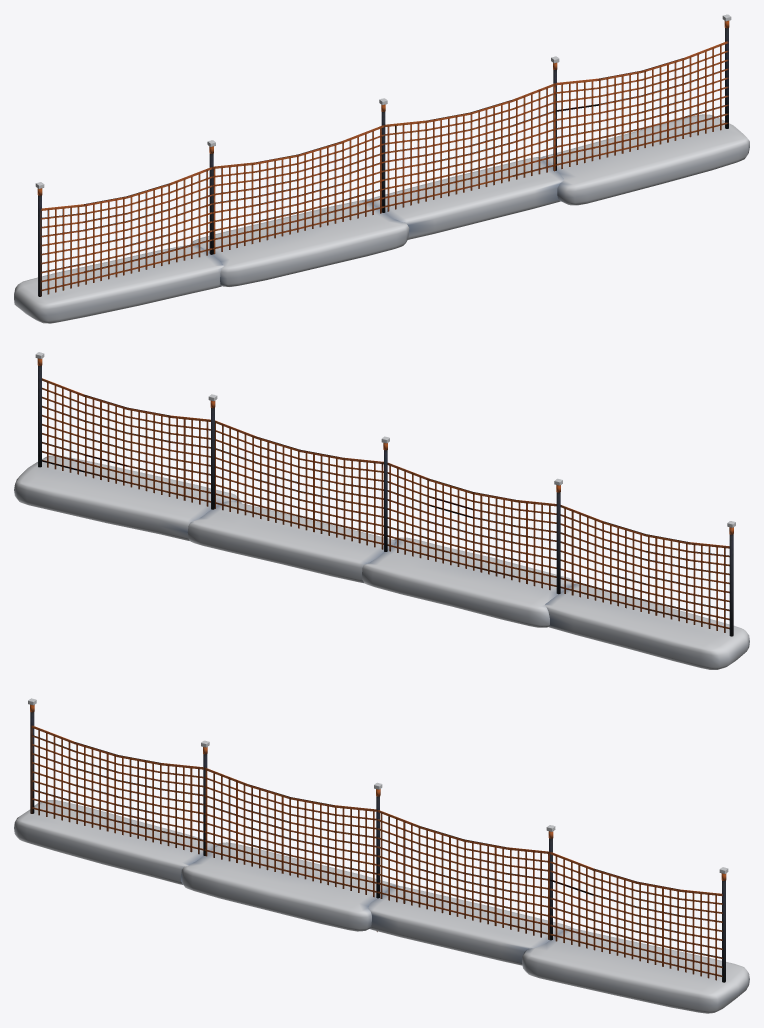
The model's file is safety_fence.glb.
3 renders of one model, top to bottom at view 1: azimuth 30°, elevation 25°; view 2: azimuth 150°, elevation 25°; view 3: azimuth 330°, elevation 25°, orthographic.
Visible parts, largest first — view 1: safety_fence_snow, safety_fence; view 2: safety_fence_snow, safety_fence; view 3: safety_fence_snow, safety_fence.
Part boxes in pixels (x1,y1,x2,y2): safety_fence_snow: (14,14,749,323); safety_fence: (37,20,729,296); safety_fence_snow: (14,352,749,669); safety_fence: (37,358,733,636); safety_fence_snow: (14,698,749,1013); safety_fence: (30,704,726,982).
Size of the model in its own units: 10.35 by 2.03 by 1.16.
2 materials, 1 textured.
